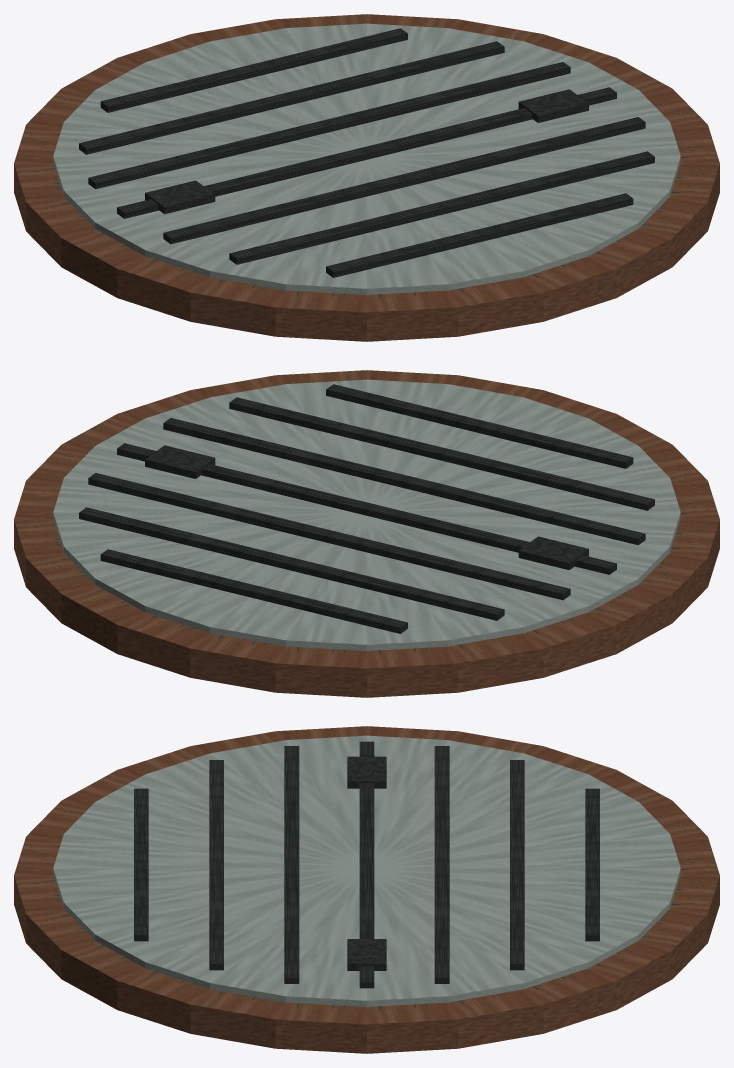
File: Manhole.obj
3 views of the same model, one above another, from view 1: azimuth 30°, elevation 25°; view 2: azimuth 150°, elevation 25°; view 3: azimuth 270°, elevation 25° (orthographic).
Visible parts, largest first — view 1: Manhole; view 2: Manhole; view 3: Manhole.
Part boxes in pixels (box(x1,y1,x2,y2)): Manhole: box(14, 14, 719, 341); Manhole: box(14, 370, 719, 697); Manhole: box(14, 726, 719, 1053).
Bounding box in the file's own units: 0.72 × 0.05 × 0.72.
3 materials, 3 textured.
